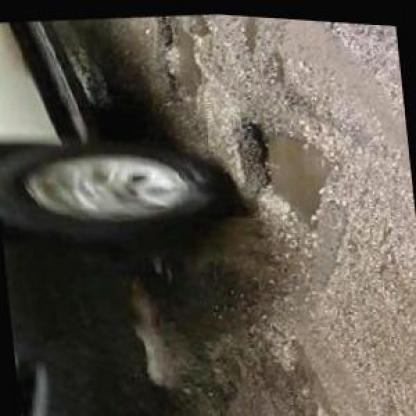pothole: (234, 109, 344, 240), (148, 8, 224, 104), (257, 46, 287, 82), (237, 13, 262, 54), (369, 20, 396, 38)
